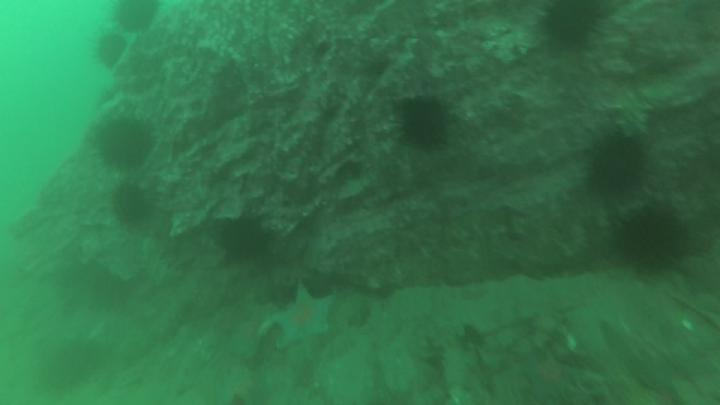echinus: (578, 121, 659, 215), (612, 198, 695, 280), (391, 95, 458, 155), (95, 118, 159, 173), (540, 1, 609, 52), (212, 219, 275, 270), (106, 177, 152, 230), (108, 1, 162, 39), (90, 26, 132, 74)
starfish: (263, 280, 342, 353), (514, 346, 578, 405)
